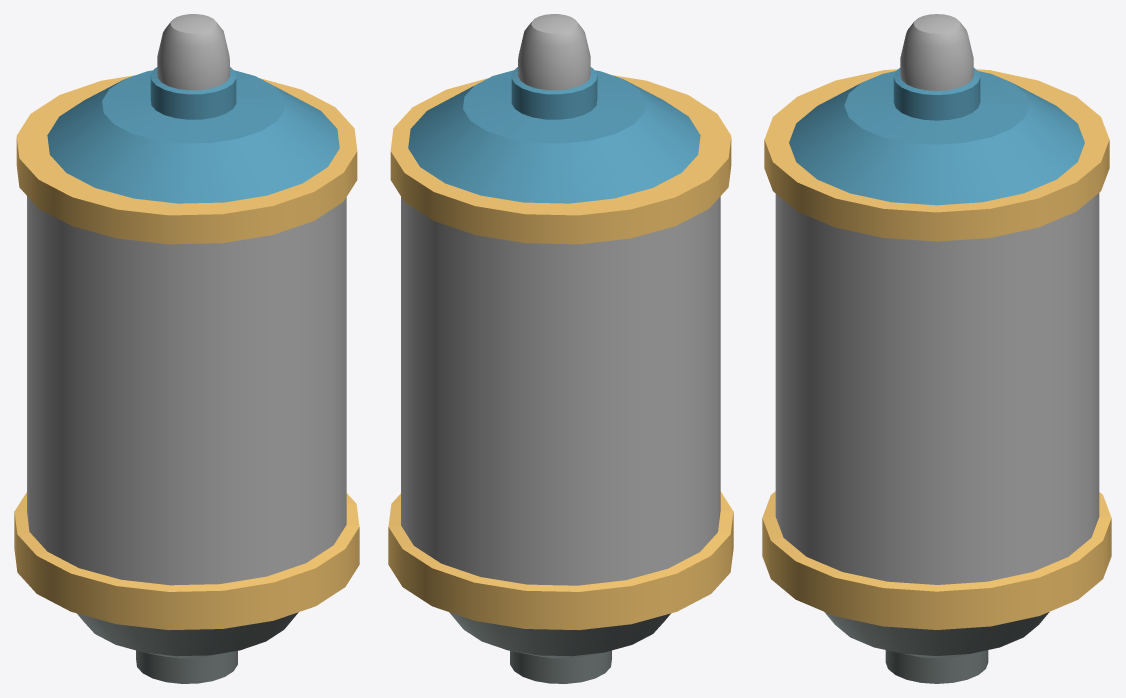
File: StorageContainer.fbx
3 renders of one model, left to right at view 1: azimuth 30°, elevation 25°; view 2: azimuth 150°, elevation 25°; view 3: azimuth 270°, elevation 25°, orthographic.
Parts seen in each view (by area): view 1: pCylinder6; view 2: pCylinder6; view 3: pCylinder6.
Part boxes in pixels (box(x1,y1,x2,y2)): pCylinder6: box(14, 14, 359, 683); pCylinder6: box(388, 14, 733, 683); pCylinder6: box(762, 14, 1111, 683).
Size of the model in its own units: 191 by 390 by 191.
